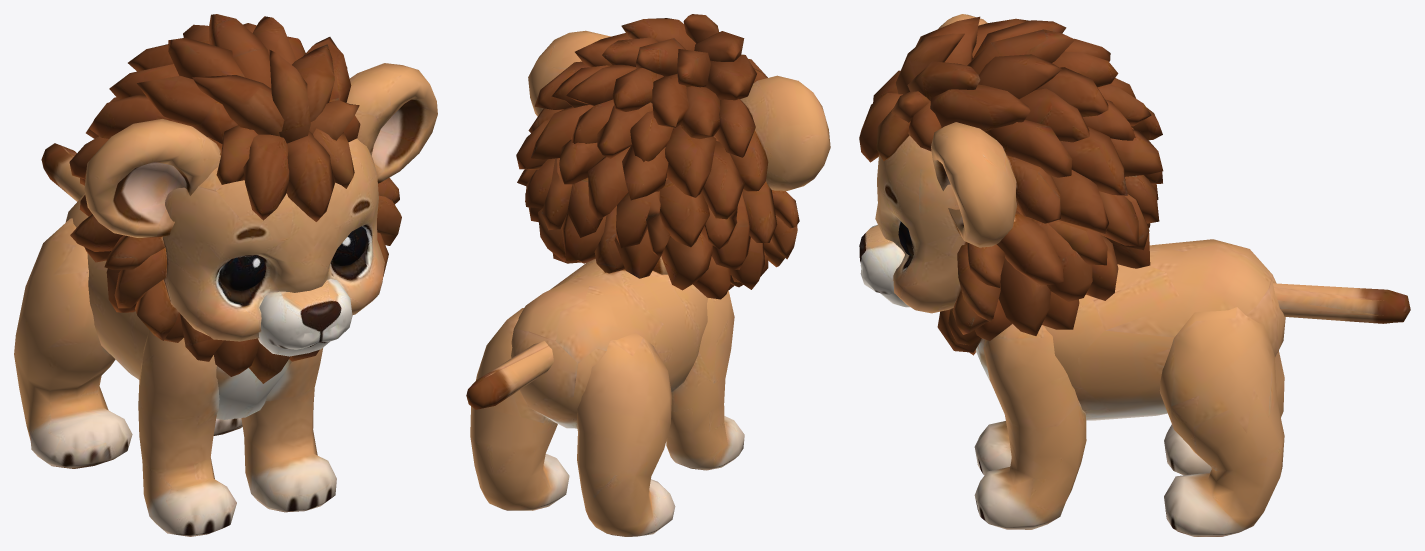
File: toy-lion.glb
The picture shows the model from 3 angles, left to right: view 1: azimuth 30°, elevation 25°; view 2: azimuth 150°, elevation 25°; view 3: azimuth 270°, elevation 25°; orthographic projection. The views are drawn at different scales.
Visible parts, largest first — view 1: Prize_Batch0; view 2: Prize_Batch0; view 3: Prize_Batch0.
Boxes of the visible parts, bbox=[...] form: Prize_Batch0: bbox=[14, 14, 437, 536]; Prize_Batch0: bbox=[466, 14, 830, 536]; Prize_Batch0: bbox=[859, 14, 1410, 536].
Bounding box in the file's own units: 0.0222 × 0.0295 × 0.032.
Materials: 1 (1 with a texture image).
